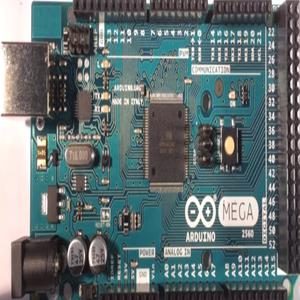duino: (8, 0, 298, 294)
